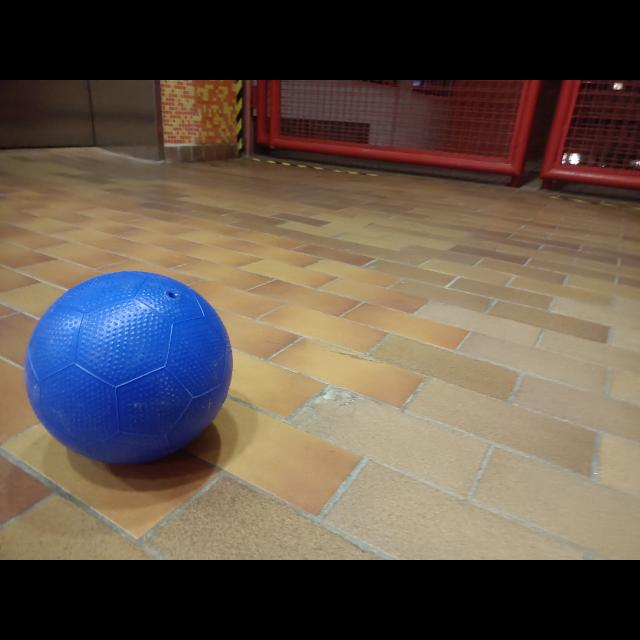B: (25, 271, 234, 465)
